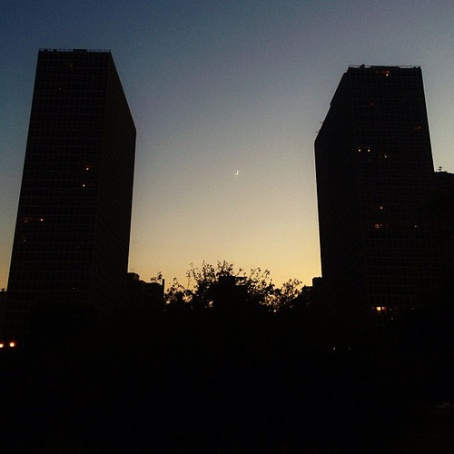building: (12, 46, 143, 299), (313, 63, 440, 295)
sky: (136, 7, 314, 263)
